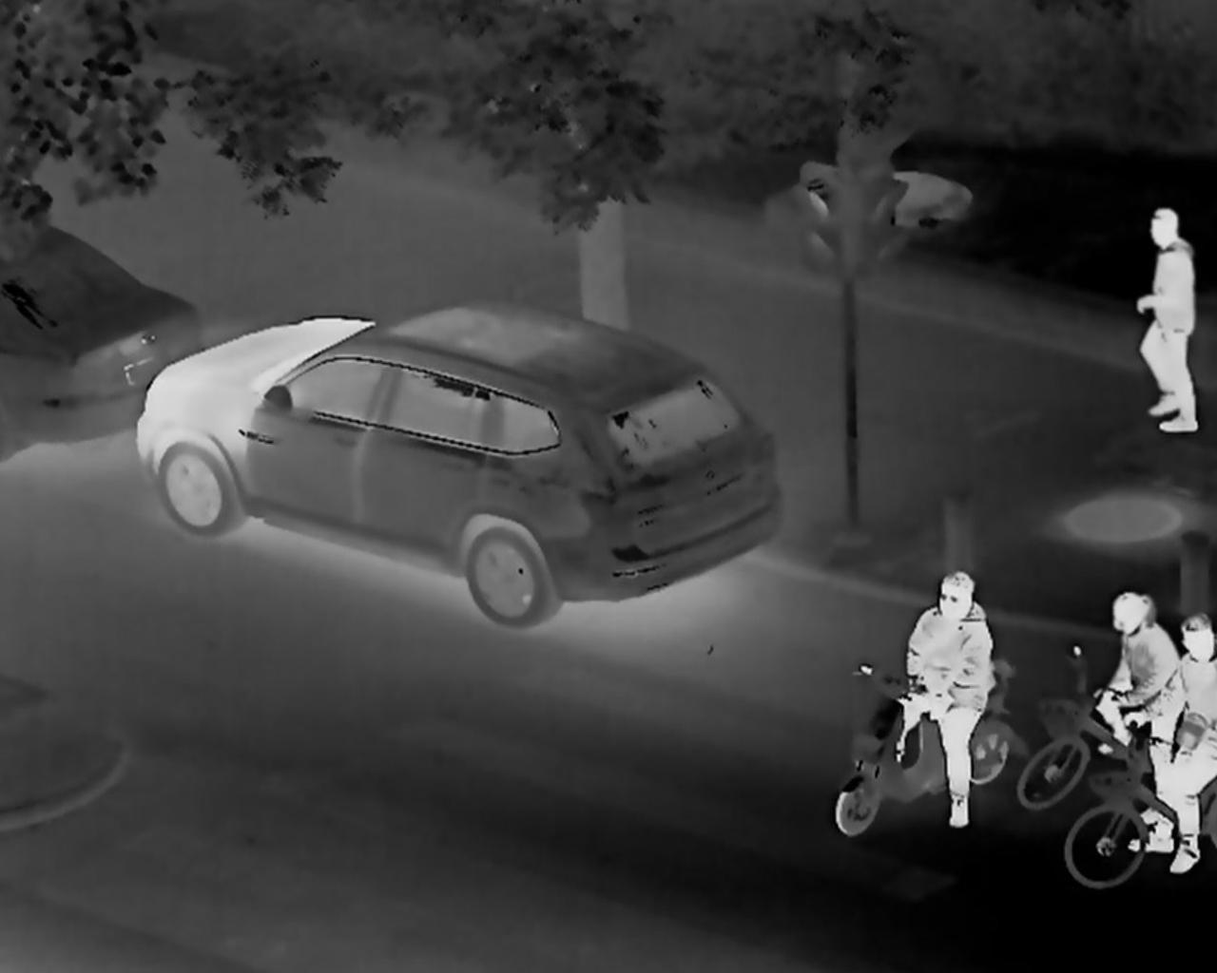person: (889, 568, 999, 823), (1115, 613, 1217, 876), (1086, 583, 1173, 827), (1130, 200, 1206, 437)
